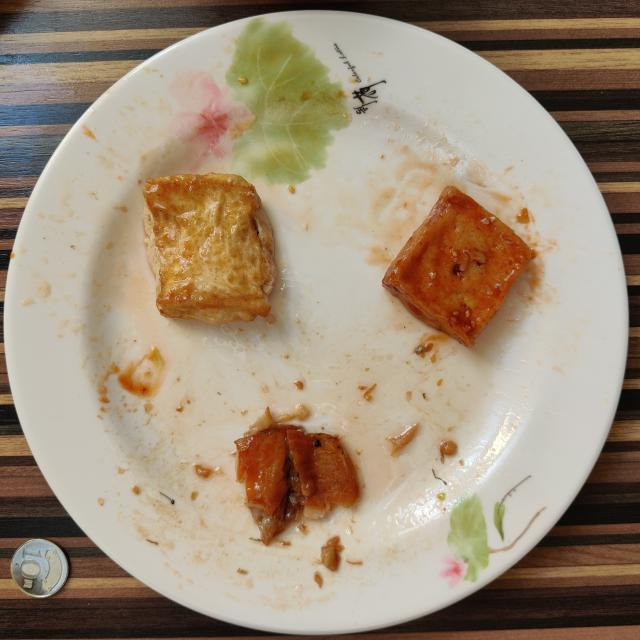Kabayaki sea bream fillet: (235, 425, 360, 545)
coin: (11, 539, 69, 598)
creamy tofu: (382, 186, 534, 346)
